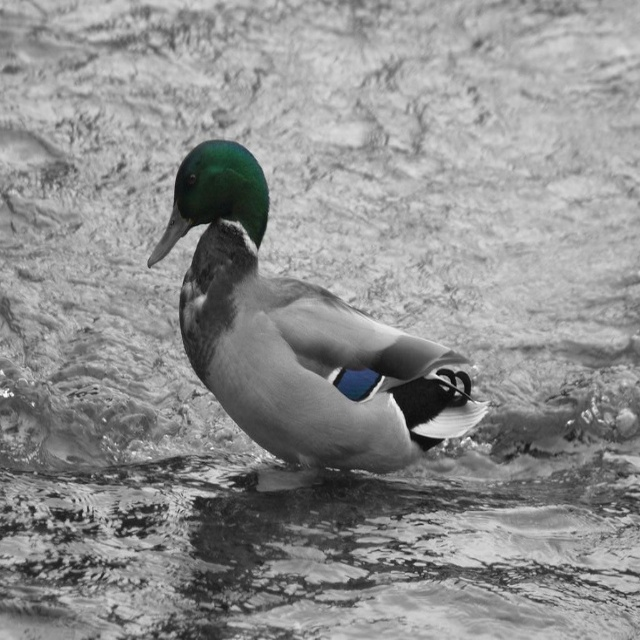Duck: (141, 133, 484, 493)
